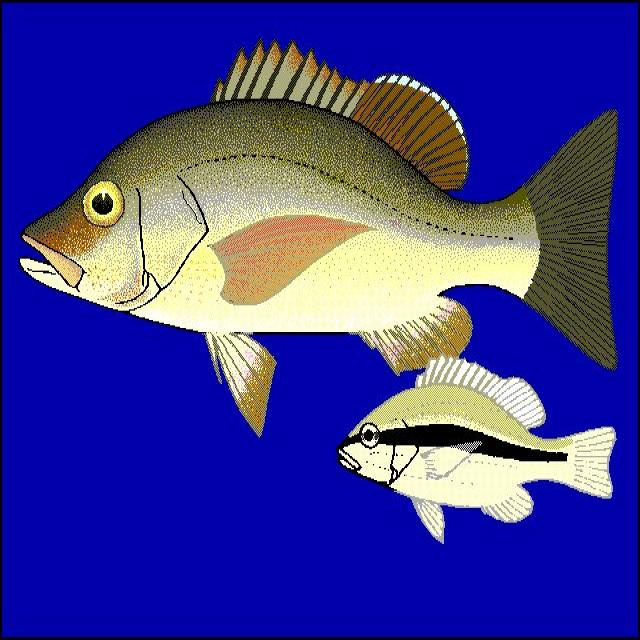ikan: (19, 36, 619, 433), (328, 358, 623, 562)
